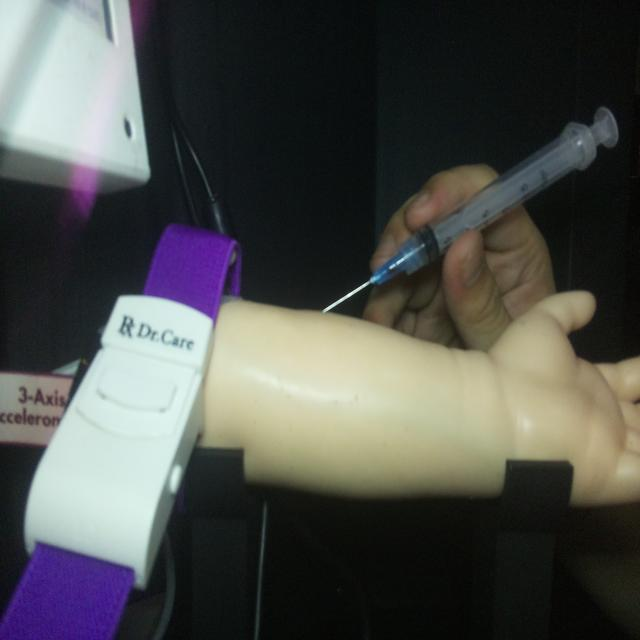23 degrees: (320, 102, 620, 316)
